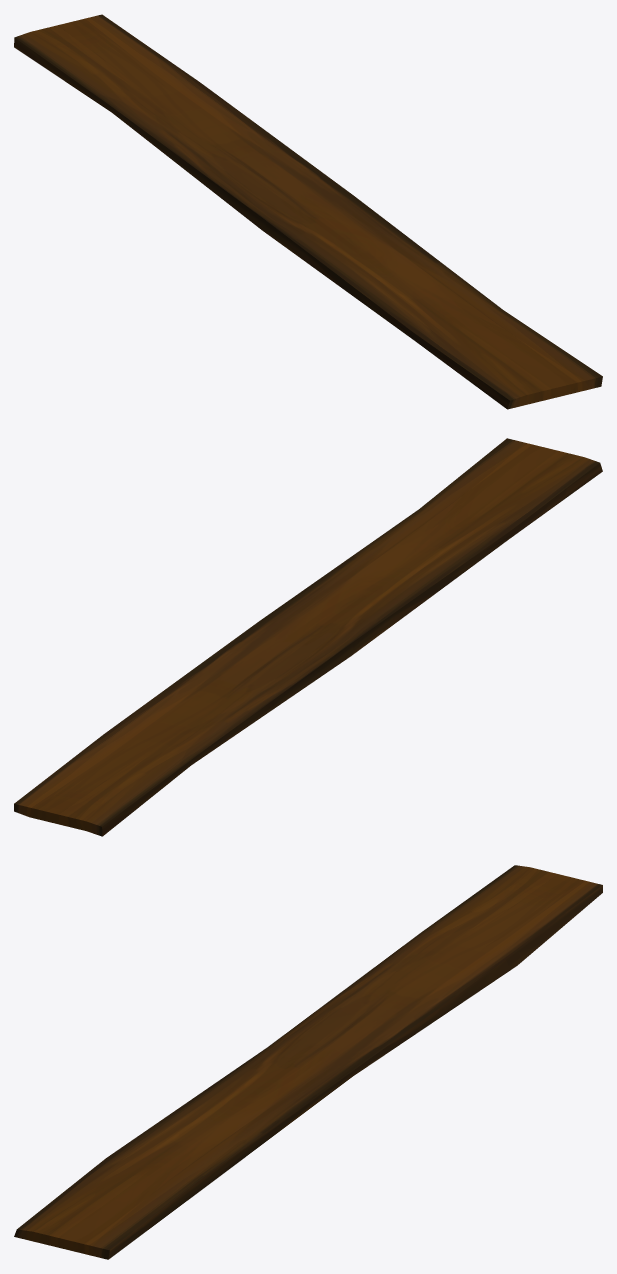
The model's file is Wood_1.fbx.
The picture shows the model from 3 angles, top to bottom: view 1: azimuth 30°, elevation 25°; view 2: azimuth 150°, elevation 25°; view 3: azimuth 330°, elevation 25°; orthographic projection.
Parts seen in each view (by area): view 1: pCube1; view 2: pCube1; view 3: pCube1.
Part boxes in pixels (box(x1,y1,x2,y2)): pCube1: box(14, 14, 602, 409); pCube1: box(14, 438, 602, 836); pCube1: box(14, 865, 602, 1259).
Bounding box in the file's own units: 107 × 18.03 × 914.
1 material, 1 textured.
